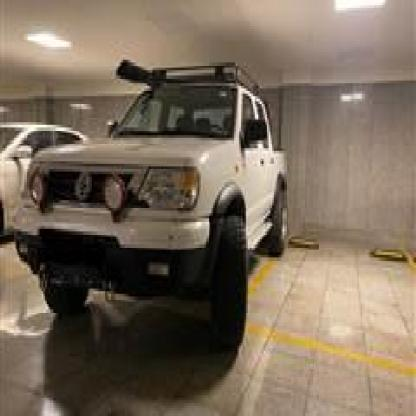Car: (21, 55, 293, 356), (0, 112, 92, 252)
